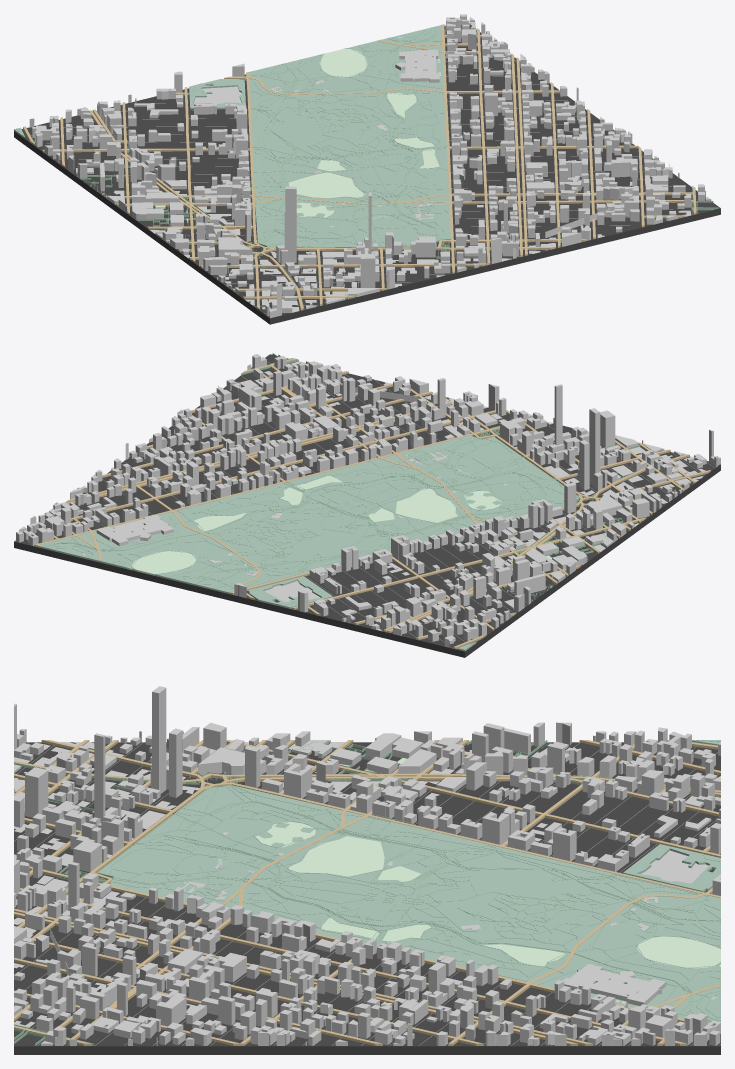
File: Central-Park.gltf
3 renders of one model, top to bottom at view 1: azimuth 30°, elevation 25°; view 2: azimuth 150°, elevation 25°; view 3: azimuth 270°, elevation 25°, orthographic. The views are drawn at different scales.
Size of the model in its own units: 0.8185 by 0.1394 by 0.8049.
